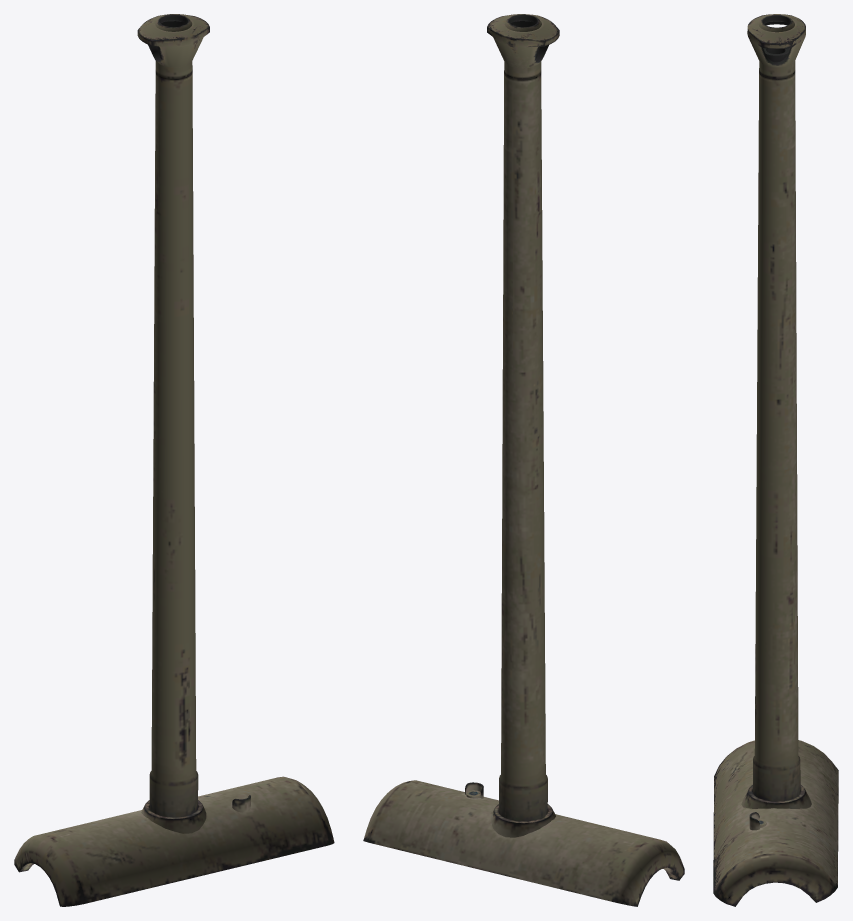
File: Gun_02.glb
The picture shows the model from 3 angles, left to right: view 1: azimuth 30°, elevation 25°; view 2: azimuth 150°, elevation 25°; view 3: azimuth 270°, elevation 25°; orthographic projection. The views are drawn at different scales.
Parts seen in each view (by area): view 1: set_0_group_0; view 2: set_0_group_0; view 3: set_0_group_0.
Part boxes in pixels (x1,y1,x2,y2): set_0_group_0: (14,14,334,906); set_0_group_0: (363,14,684,906); set_0_group_0: (713,14,838,906).
Bounding box in the file's own units: 1.25 × 3.7 × 0.5125.
Materials: 1 (1 with a texture image).
